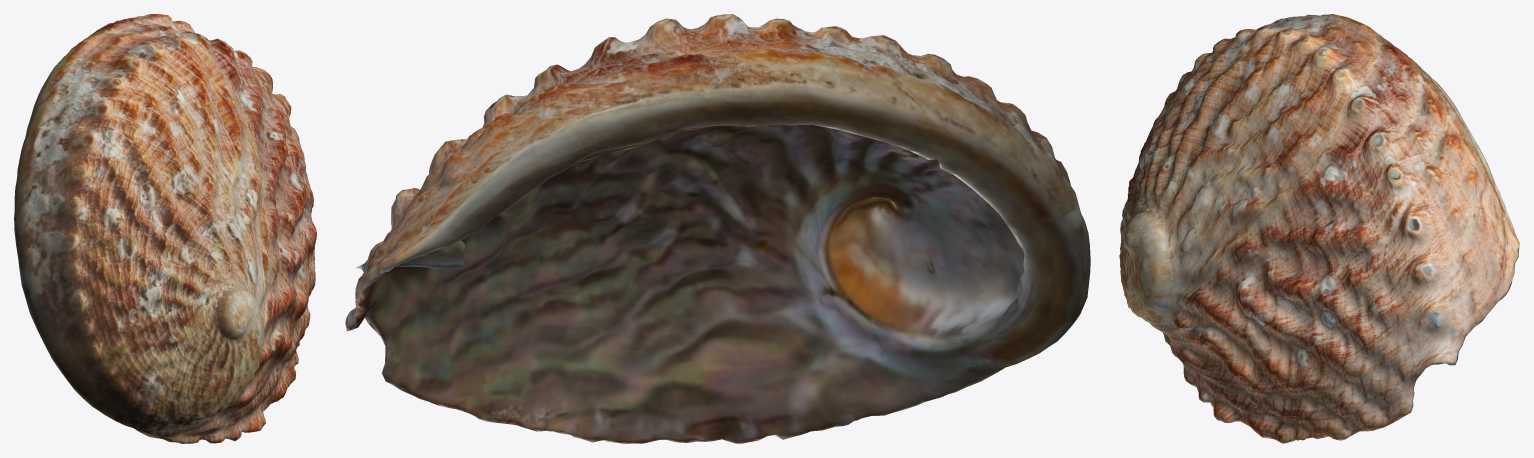
File: Abalone.glb
3 views of the same model, side by side, from view 1: azimuth 30°, elevation 25°; view 2: azimuth 150°, elevation 25°; view 3: azimuth 270°, elevation 25° (orthographic). The views are drawn at different scales.
Size of the model in its own units: 0.4602 by 0.3942 by 0.4107.
1 material, 1 textured.
